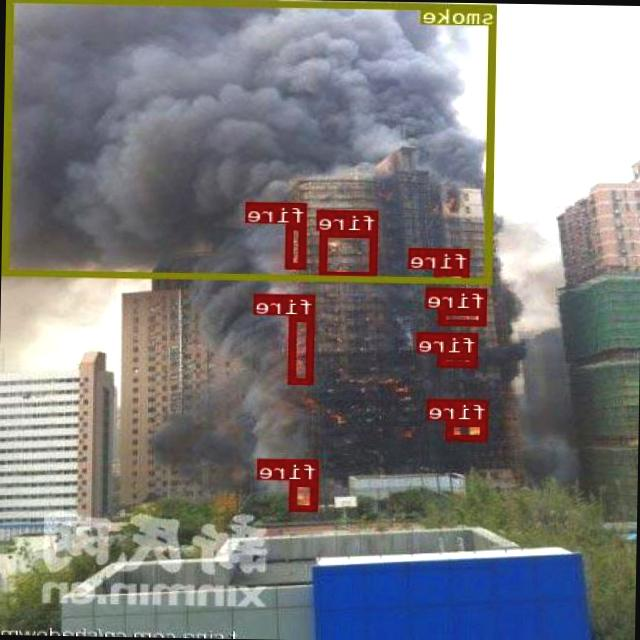fire: (321, 230, 379, 277), (290, 314, 314, 382), (286, 222, 308, 268), (290, 480, 320, 510), (447, 418, 488, 439), (440, 308, 488, 324), (439, 352, 478, 367), (436, 268, 471, 283)
smoke: (3, 0, 496, 282)
